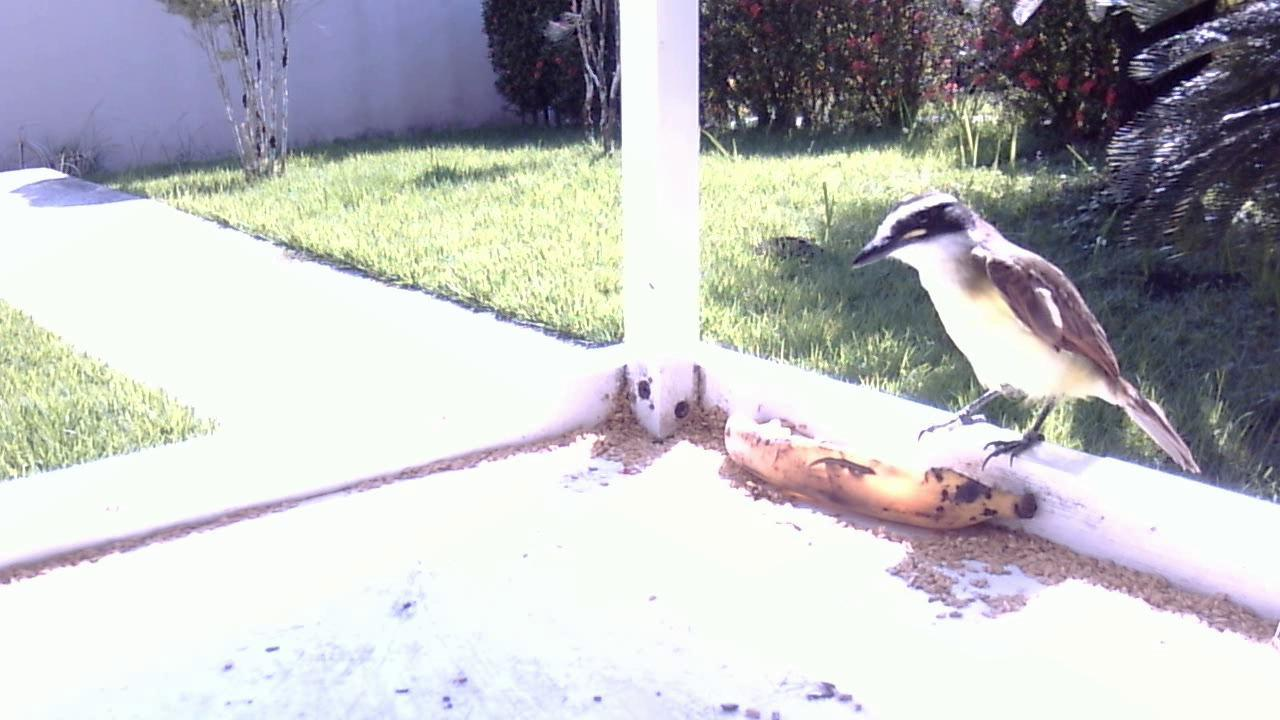bem_te_vi: (845, 180, 1214, 500)
